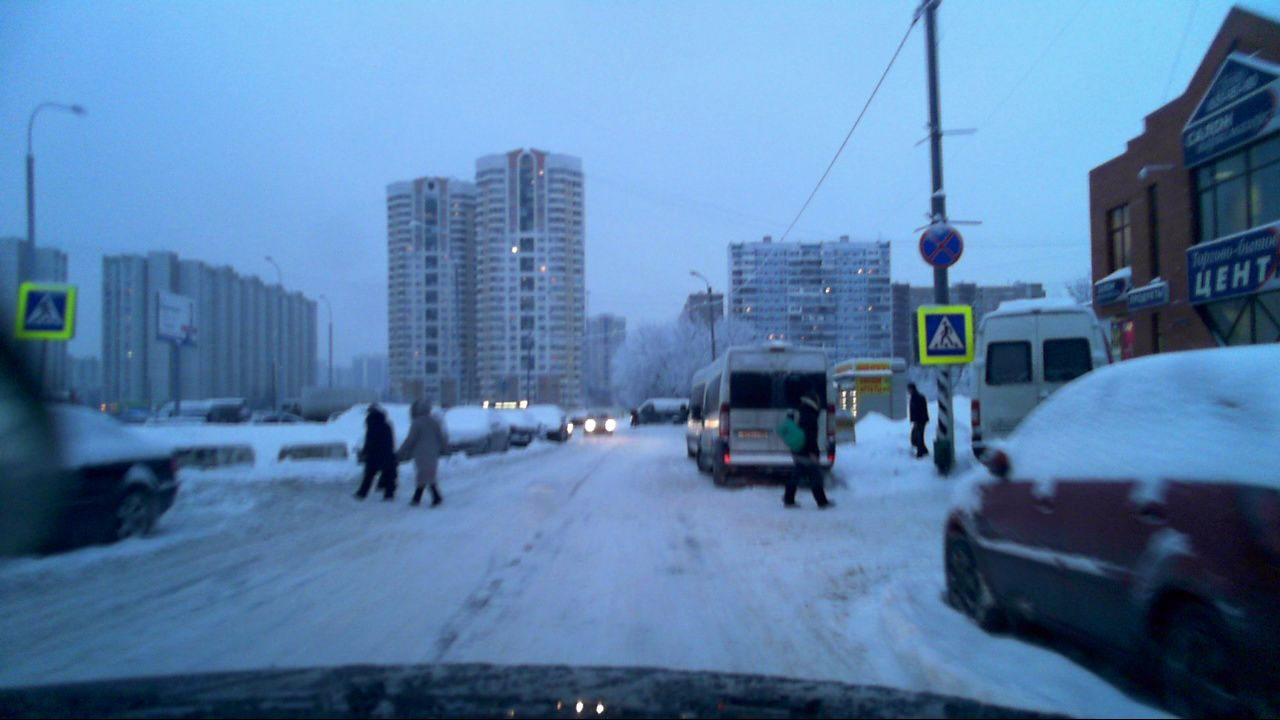No Parking: (919, 218, 965, 268)
